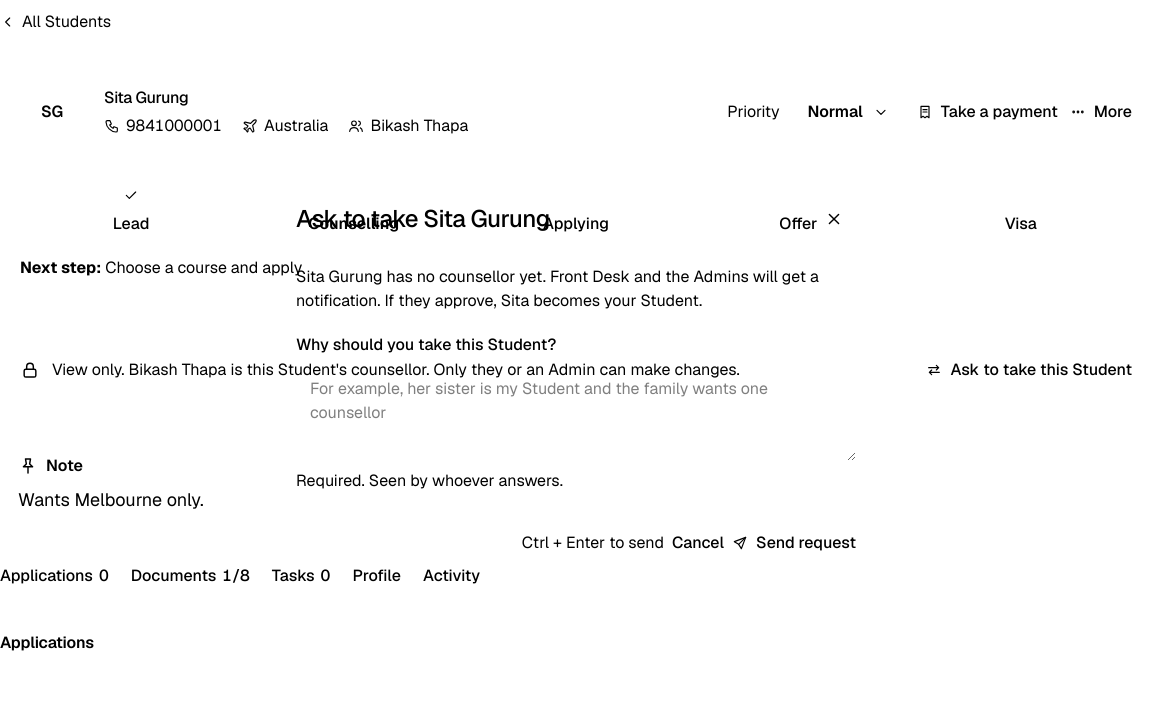
Test: Asking to take a Student › shows the server's reason under the field and keeps the dialog open
Step 1. Click the button "Ask to take this Student" → point(1029, 370), box [926,348,1132,392]
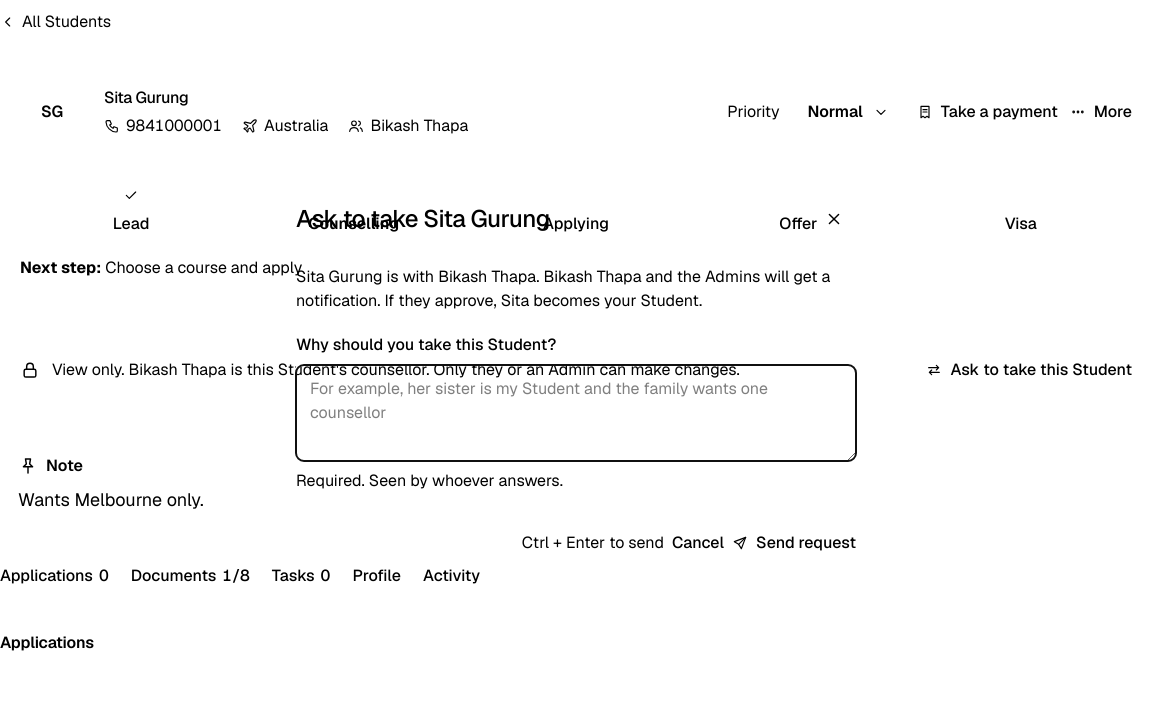
Step 2. Click the button "Send request" → point(794, 542), box [732,520,856,564]
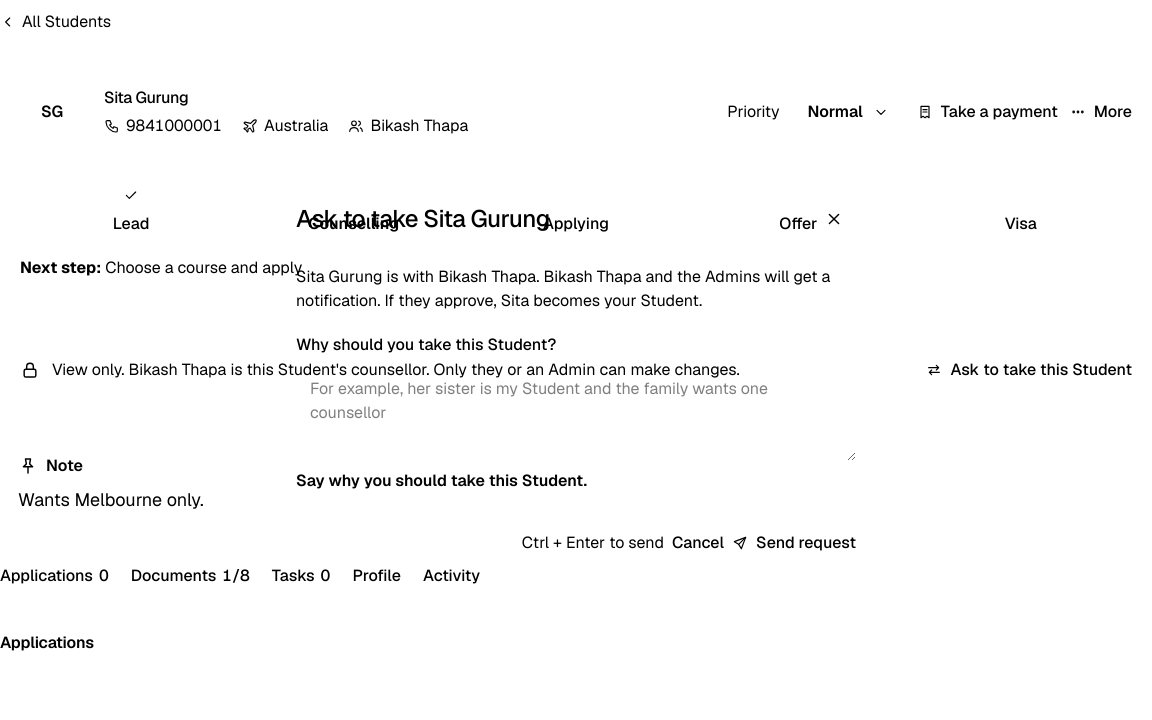
Expected: the dialog is shown, [276,156,876,564]
Expected: the text "Say why you should take this Student." is shown, [296,470,587,490]
